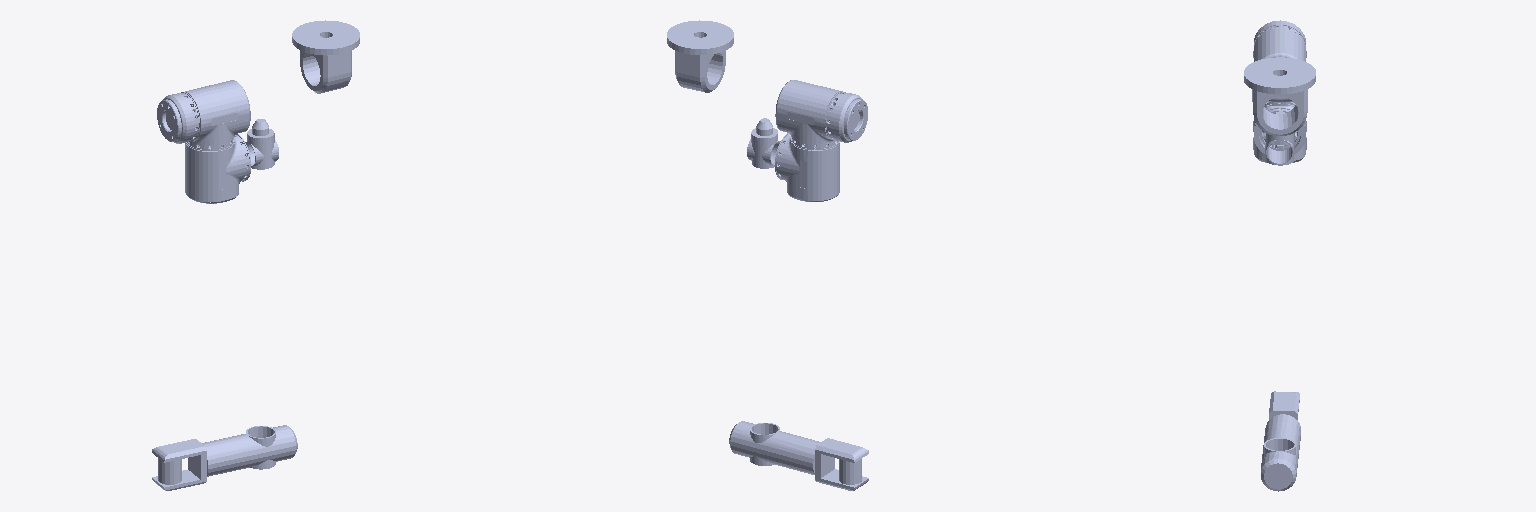
The robot description file, URDF, robot "Cobot30_5":
<?xml version="1.0" encoding="utf-8"?>
<!-- This URDF was automatically created by SolidWorks to URDF Exporter! Originally created by [author] ([email redacted]) 
     Commit Version: 1.6.0-4-g7f85cfe  Build Version: 1.6.7995.38578
     For more information, please see http://wiki.ros.org/sw_urdf_exporter -->
<robot
  name="Cobot30_5">
  <link
    name="base_link">
    <inertial>
      <origin
        xyz="-0.00098906 -5.0715E-05 0.043054"
        rpy="0 0 0" />
      <mass
        value="0.50256" />
      <inertia
        ixx="0.0010578"
        ixy="2.5013E-08"
        ixz="-1E-05"
        iyy="0.001031"
        iyz="4.528E-07"
        izz="0.0013307" />
    </inertial>
    <visual>
      <origin
        xyz="0 0 0"
        rpy="0 0 0" />
      <geometry>
        <mesh
          filename="package://Cobot30_5/meshes/base_link.STL" />
      </geometry>
      <material
        name="">
        <color
          rgba="0.79216 0.81961 0.93333 1" />
      </material>
    </visual>
    <collision>
      <origin
        xyz="0 0 0"
        rpy="0 0 0" />
      <geometry>
        <mesh
          filename="package://Cobot30_5/meshes/base_link.STL" />
      </geometry>
    </collision>
  </link>
  <link
    name="link_1">
    <inertial>
      <origin
        xyz="-0.01147 8.2084E-06 0.0056862"
        rpy="0 0 0" />
      <mass
        value="1.1062" />
      <inertia
        ixx="0.0020865"
        ixy="-3.0649E-07"
        ixz="-8.3386E-05"
        iyy="0.0023108"
        iyz="7.4008E-07"
        izz="0.0022029" />
    </inertial>
    <visual>
      <origin
        xyz="0 0 0"
        rpy="0 0 0" />
      <geometry>
        <mesh
          filename="package://Cobot30_5/meshes/link_1.STL" />
      </geometry>
      <material
        name="">
        <color
          rgba="0.79216 0.81961 0.93333 1" />
      </material>
    </visual>
    <collision>
      <origin
        xyz="0 0 0"
        rpy="0 0 0" />
      <geometry>
        <mesh
          filename="package://Cobot30_5/meshes/link_1.STL" />
      </geometry>
    </collision>
  </link>
  <joint
    name="joint_1"
    type="revolute">
    <origin
      xyz="0 0 0.159"
      rpy="0 -1.5708 0" />
    <parent
      link="base_link" />
    <child
      link="link_1" />
    <axis
      xyz="0 0 1" />
    <limit
      lower="0"
      upper="0"
      effort="0"
      velocity="0" />
  </joint>
  <link
    name="link_2">
    <inertial>
      <origin
        xyz="-0.01147 8.1423E-06 0.0056863"
        rpy="0 0 0" />
      <mass
        value="1.1062" />
      <inertia
        ixx="0.0020865"
        ixy="-3.0953E-07"
        ixz="-8.338E-05"
        iyy="0.0023108"
        iyz="7.4261E-07"
        izz="0.0022029" />
    </inertial>
    <visual>
      <origin
        xyz="0 0 0"
        rpy="0 0 0" />
      <geometry>
        <mesh
          filename="package://Cobot30_5/meshes/link_2.STL" />
      </geometry>
      <material
        name="">
        <color
          rgba="0.79216 0.81961 0.93333 1" />
      </material>
    </visual>
    <collision>
      <origin
        xyz="0 0 0"
        rpy="0 0 0" />
      <geometry>
        <mesh
          filename="package://Cobot30_5/meshes/link_2.STL" />
      </geometry>
    </collision>
  </link>
  <joint
    name="joint_2"
    type="revolute">
    <origin
      xyz="0 0 0.134"
      rpy="0 -1.5708 0" />
    <parent
      link="link_1" />
    <child
      link="link_2" />
    <axis
      xyz="0 0 1" />
    <limit
      lower="0"
      upper="0"
      effort="0"
      velocity="0" />
  </joint>
  <link
    name="link_3">
    <inertial>
      <origin
        xyz="-0.17318 -1.0279E-05 0.0025881"
        rpy="0 0 0" />
      <mass
        value="1.5123" />
      <inertia
        ixx="0.0021545"
        ixy="8.5573E-07"
        ixz="-1.6453E-05"
        iyy="0.022237"
        iyz="-9.3699E-07"
        izz="0.022185" />
    </inertial>
    <visual>
      <origin
        xyz="0 0 0"
        rpy="0 0 0" />
      <geometry>
        <mesh
          filename="package://Cobot30_5/meshes/link_3.STL" />
      </geometry>
      <material
        name="">
        <color
          rgba="0.79216 0.81961 0.93333 1" />
      </material>
    </visual>
    <collision>
      <origin
        xyz="0 0 0"
        rpy="0 0 0" />
      <geometry>
        <mesh
          filename="package://Cobot30_5/meshes/link_3.STL" />
      </geometry>
    </collision>
  </link>
  <joint
    name="joint_3"
    type="revolute">
    <origin
      xyz="0 0 0.641"
      rpy="3.1416 -1.5708 0" />
    <parent
      link="link_2" />
    <child
      link="link_3" />
    <axis
      xyz="0 0 0" />
    <limit
      lower="0"
      upper="0"
      effort="0"
      velocity="0" />
  </joint>
  <link
    name="link_4">
    <inertial>
      <origin
        xyz="-0.0037095 -3.2056E-05 0.0055293"
        rpy="0 0 0" />
      <mass
        value="0.7084" />
      <inertia
        ixx="0.00096064"
        ixy="8.0271E-08"
        ixz="-1.6132E-05"
        iyy="0.00099679"
        iyz="-1.0147E-06"
        izz="0.00094514" />
    </inertial>
    <visual>
      <origin
        xyz="0 0 0"
        rpy="0 0 0" />
      <geometry>
        <mesh
          filename="package://Cobot30_5/meshes/link_4.STL" />
      </geometry>
      <material
        name="">
        <color
          rgba="0.79216 0.81961 0.93333 1" />
      </material>
    </visual>
    <collision>
      <origin
        xyz="0 0 0"
        rpy="0 0 0" />
      <geometry>
        <mesh
          filename="package://Cobot30_5/meshes/link_4.STL" />
      </geometry>
    </collision>
  </link>
  <joint
    name="joint_4"
    type="revolute">
    <origin
      xyz="0 0 0.11"
      rpy="0 -1.5708 0" />
    <parent
      link="link_3" />
    <child
      link="link_4" />
    <axis
      xyz="0 0 1" />
    <limit
      lower="0"
      upper="0"
      effort="0"
      velocity="0" />
  </joint>
  <link
    name="link_5">
    <inertial>
      <origin
        xyz="-0.158577516186169 -2.81623847717023E-05 0.00104204965740362"
        rpy="0 0 0" />
      <mass
        value="0.894463793951493" />
      <inertia
        ixx="0.000741325682294939"
        ixy="6.30994325045854E-08"
        ixz="-3.92803723705054E-06"
        iyy="0.00853023078560267"
        iyz="-7.9164021731503E-07"
        izz="0.00851393427041098" />
    </inertial>
    <visual>
      <origin
        xyz="0 0 0"
        rpy="0 0 0" />
      <geometry>
        <mesh
          filename="package://Cobot30_5/meshes/link_5.STL" />
      </geometry>
      <material
        name="">
        <color
          rgba="0.792156862745098 0.819607843137255 0.933333333333333 1" />
      </material>
    </visual>
    <collision>
      <origin
        xyz="0 0 0"
        rpy="0 0 0" />
      <geometry>
        <mesh
          filename="package://Cobot30_5/meshes/link_5.STL" />
      </geometry>
    </collision>
  </link>
  <joint
    name="joint_5"
    type="revolute">
    <origin
      xyz="0 0 0.478"
      rpy="3.1416 -1.5708 0" />
    <parent
      link="link_4" />
    <child
      link="link_5" />
    <axis
      xyz="0 0 1" />
    <limit
      lower="0"
      upper="0"
      effort="0"
      velocity="0" />
  </joint>
  <link
    name="link_6">
    <inertial>
      <origin
        xyz="-0.00368819421517035 -7.791522736178E-05 0.00290799885931525"
        rpy="0 0 0" />
      <mass
        value="0.323306324607377" />
      <inertia
        ixx="0.000268339989519911"
        ixy="6.30622047055974E-08"
        ixz="-2.90444946780432E-06"
        iyy="0.000284214294696337"
        iyz="-7.9162917096387E-07"
        izz="0.000268136508211968" />
    </inertial>
    <visual>
      <origin
        xyz="0 0 0"
        rpy="0 0 0" />
      <geometry>
        <mesh
          filename="package://Cobot30_5/meshes/link_6.STL" />
      </geometry>
      <material
        name="">
        <color
          rgba="0.792156862745098 0.819607843137255 0.933333333333333 1" />
      </material>
    </visual>
    <collision>
      <origin
        xyz="0 0 0"
        rpy="0 0 0" />
      <geometry>
        <mesh
          filename="package://Cobot30_5/meshes/link_6.STL" />
      </geometry>
    </collision>
  </link>
  <joint
    name="joint_6"
    type="revolute">
    <origin
      xyz="0 0 0.086"
      rpy="1.5708 -1.5708 1.5708" />
    <parent
      link="link_5" />
    <child
      link="link_6" />
    <axis
      xyz="0 0 1" />
    <limit
      lower="0"
      upper="0"
      effort="0"
      velocity="0" />
  </joint>
  <link
    name="link_6_2">
    <inertial>
      <origin
        xyz="-7.79156612490603E-05 -0.00368819425960698 -0.00290799920267215"
        rpy="0 0 0" />
      <mass
        value="0.323306321695801" />
      <inertia
        ixx="0.000284214294569284"
        ixy="6.30604388121786E-08"
        ixz="7.9163014735616E-07"
        iyy="0.000268339986427775"
        iyz="2.90444900053023E-06"
        izz="0.000268136506586483" />
    </inertial>
    <visual>
      <origin
        xyz="0 0 0"
        rpy="0 0 0" />
      <geometry>
        <mesh
          filename="package://Cobot30_5/meshes/link_6_2.STL" />
      </geometry>
      <material
        name="">
        <color
          rgba="0.792156862745098 0.819607843137255 0.933333333333333 1" />
      </material>
    </visual>
    <collision>
      <origin
        xyz="0 0 0"
        rpy="0 0 0" />
      <geometry>
        <mesh
          filename="package://Cobot30_5/meshes/link_6_2.STL" />
      </geometry>
    </collision>
  </link>
  <joint
    name="joint_6_2_fix"
    type="fixed">
    <origin
      xyz="0 0 0.086"
      rpy="1.5708 0 -1.5708" />
    <parent
      link="link_6" />
    <child
      link="link_6_2" />
    <axis
      xyz="0 0 0" />
  </joint>
  <link
    name="link_7">
    <inertial>
      <origin
        xyz="0.000195407913214707 -2.75686119528204E-05 -0.0151453522300611"
        rpy="0 0 0" />
      <mass
        value="0.0841557704076625" />
      <inertia
        ixx="3.98481977075064E-05"
        ixy="-1.26349081100121E-07"
        ixz="-1.65032837582172E-08"
        iyy="3.89701670094055E-05"
        iyz="2.32099904153226E-09"
        izz="6.57320956326678E-05" />
    </inertial>
    <visual>
      <origin
        xyz="0 0 0"
        rpy="0 0 0" />
      <geometry>
        <mesh
          filename="package://Cobot30_5/meshes/link_7.STL" />
      </geometry>
      <material
        name="">
        <color
          rgba="0.792156862745098 0.819607843137255 0.933333333333333 1" />
      </material>
    </visual>
    <collision>
      <origin
        xyz="0 0 0"
        rpy="0 0 0" />
      <geometry>
        <mesh
          filename="package://Cobot30_5/meshes/link_7.STL" />
      </geometry>
    </collision>
  </link>
  <joint
    name="joint_7"
    type="revolute">
    <origin
      xyz="0 0 -0.0725"
      rpy="-3.1416 0 1.5708" />
    <parent
      link="link_6_2" />
    <child
      link="link_7" />
    <axis
      xyz="0 0 1" />
    <limit
      lower="0"
      upper="0"
      effort="0"
      velocity="0" />
  </joint>
</robot>

--- Facts derived from the render (not from the file) ---
Views: 3 orthographic renders of the robot side by side, from view 1: azimuth 30°, elevation 25°; view 2: azimuth 150°, elevation 25°; view 3: azimuth 270°, elevation 25°.
Robot: Cobot30_5 — 9 links, 8 joints (7 revolute, 1 fixed); root link base_link; default pose: all joints at 0.
Links seen in each view (by area): view 1: link_4, link_2, link_6, link_6_2, link_7, link_5; view 2: link_4, link_2, link_6, link_6_2, link_7, link_5; view 3: link_2, link_4, link_6_2, link_6, link_5.
Link boxes in pixels (left/top/right/bottom): link_4: left=152, top=425, right=297, bottom=490; link_2: left=292, top=20, right=359, bottom=93; link_6: left=185, top=134, right=250, bottom=203; link_6_2: left=185, top=80, right=250, bottom=150; link_7: left=157, top=92, right=199, bottom=143; link_5: left=244, top=119, right=278, bottom=169; link_4: left=729, top=421, right=868, bottom=490; link_2: left=667, top=20, right=733, bottom=92; link_6: left=775, top=133, right=839, bottom=201; link_6_2: left=775, top=80, right=840, bottom=149; link_7: left=825, top=91, right=867, bottom=142; link_5: left=747, top=118, right=781, bottom=168; link_2: left=1244, top=57, right=1315, bottom=135; link_4: left=1261, top=391, right=1300, bottom=491; link_6_2: left=1253, top=28, right=1306, bottom=105; link_6: left=1253, top=104, right=1306, bottom=162; link_5: left=1265, top=111, right=1294, bottom=165.
Size in the robot's own frame: 0.3307 by 0.1 by 0.671 metres.
Meshes: 9 distinct files referenced, 6 mesh visuals loaded (6 binary STL); not drawn: 3 (reference not matched to a file when rendering).